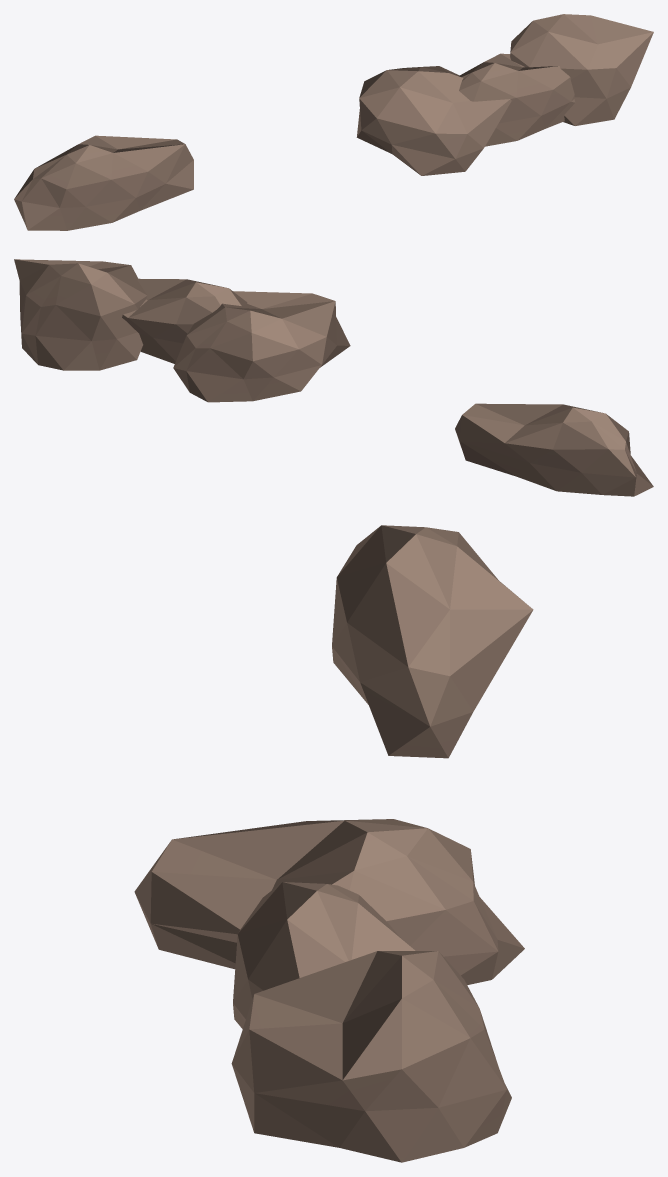
File: shitou4.fbx
3 views of the same model, one above another, from view 1: azimuth 30°, elevation 25°; view 2: azimuth 150°, elevation 25°; view 3: azimuth 270°, elevation 25° (orthographic). The views are drawn at different scales.
Visible parts, largest first — view 1: shitou4; view 2: shitou4; view 3: shitou4.
Part boxes in pixels (x1,y1,x2,y2): shitou4: [14, 14, 653, 230]; shitou4: [14, 259, 653, 496]; shitou4: [134, 525, 533, 1162].
Bounding box in the file's own units: 40.41 × 11.35 × 5.36.
